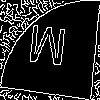M: (25, 24, 69, 76)
